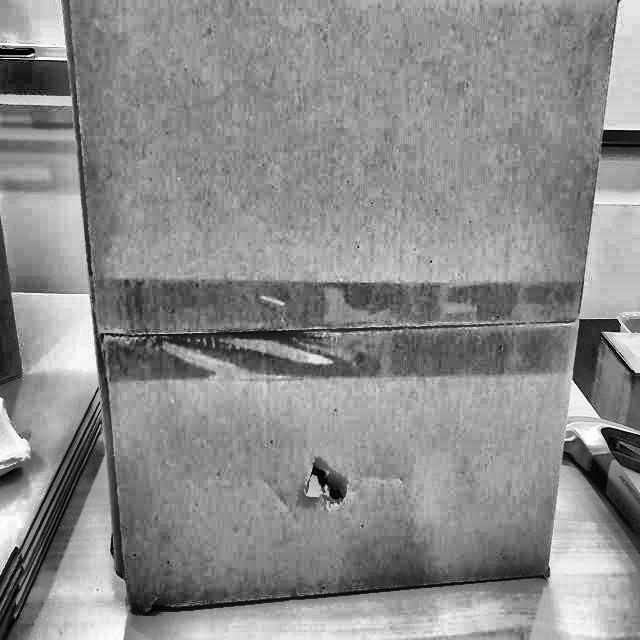box: (51, 0, 626, 618)
hole: (300, 454, 350, 518)
